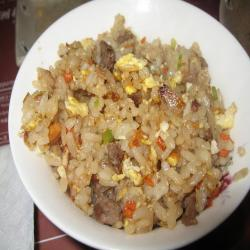rice: (26, 38, 237, 229)
